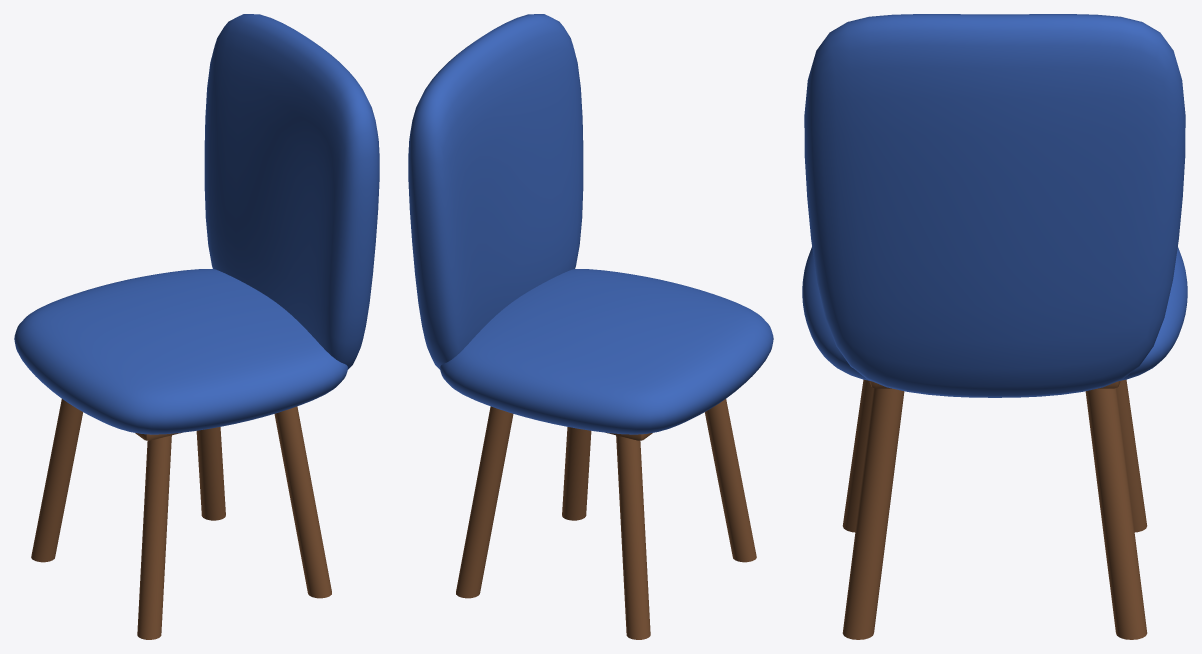
Rendered from Chair2.fbx.
3 views of the same model, side by side, from view 1: azimuth 30°, elevation 25°; view 2: azimuth 150°, elevation 25°; view 3: azimuth 270°, elevation 25° (orthographic). The views are drawn at different scales.
Parts seen in each view (by area): view 1: Chair3; view 2: Chair3; view 3: Chair3.
Boxes of the visible parts, left/top/right/bottom form: Chair3: left=14, top=14, right=379, bottom=639; Chair3: left=408, top=14, right=773, bottom=639; Chair3: left=802, top=14, right=1187, bottom=639.
Size of the model in its own units: 139 by 239 by 130.
